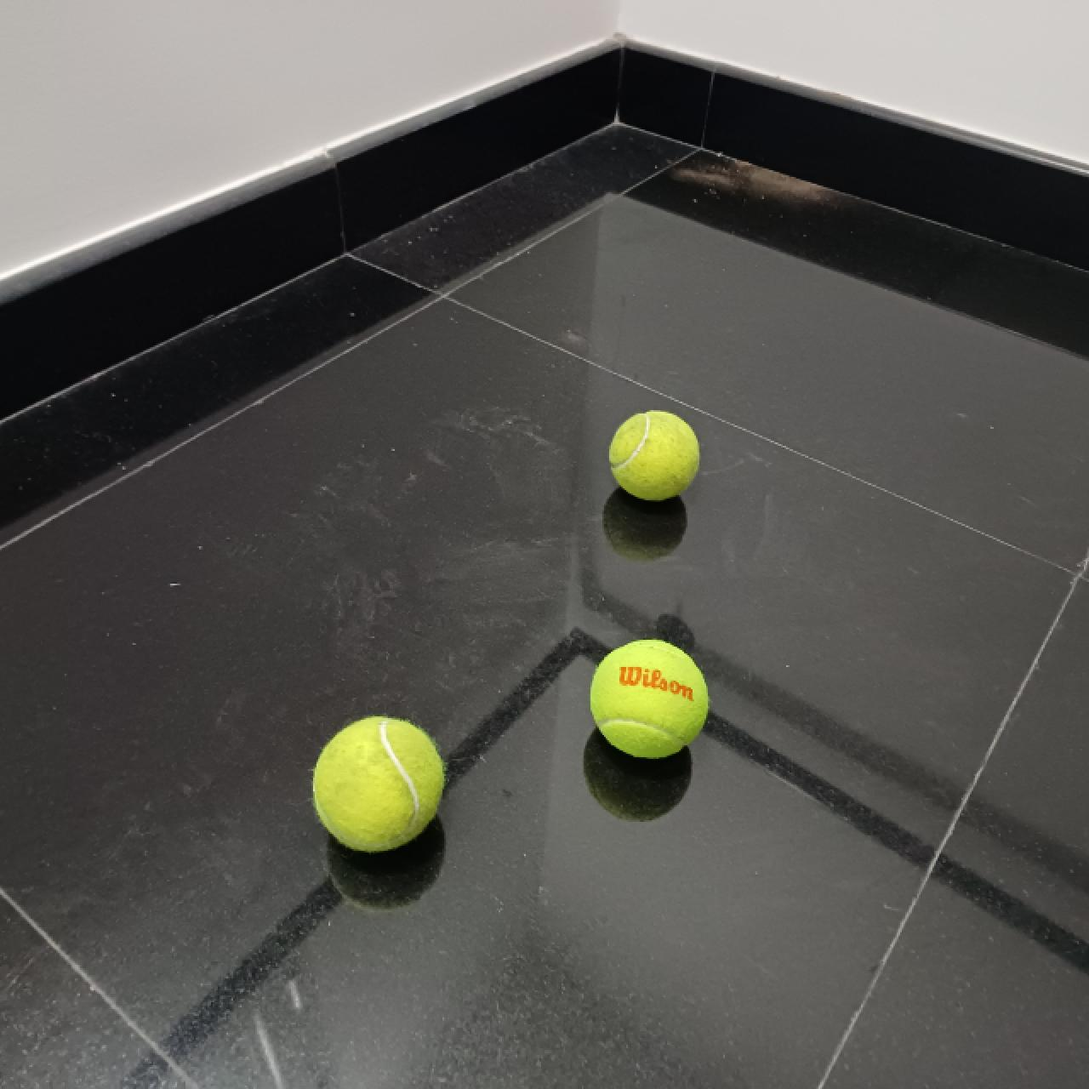tennis-ball: (311, 715, 447, 852), (589, 637, 710, 760), (608, 410, 702, 503)
